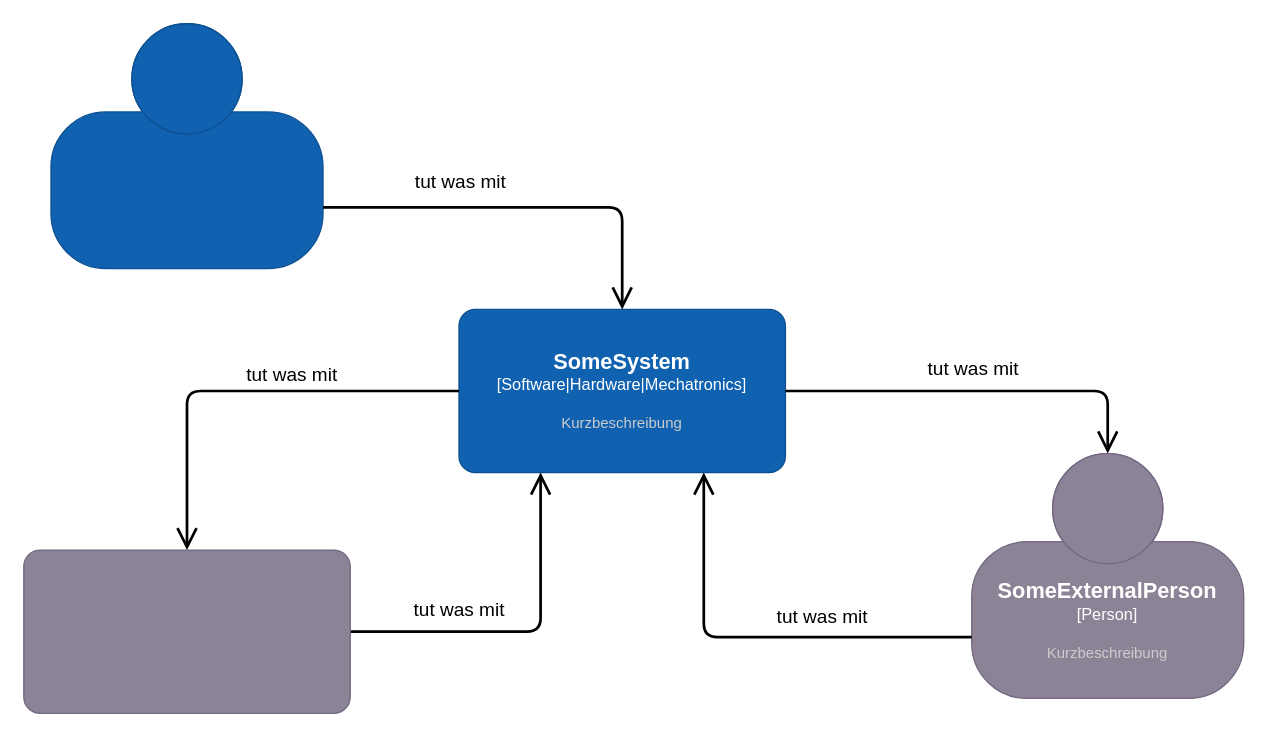
This 1268x737 diagram has some shape labels left out. Each missing label, with the centre of its shape:
"Some External System [Software|Hardware|Mechantronics] Kurzbeschreibung" goes at point 186,631.
"SomePerson [Person] Kurzbeschreibung" goes at point 186,145.
